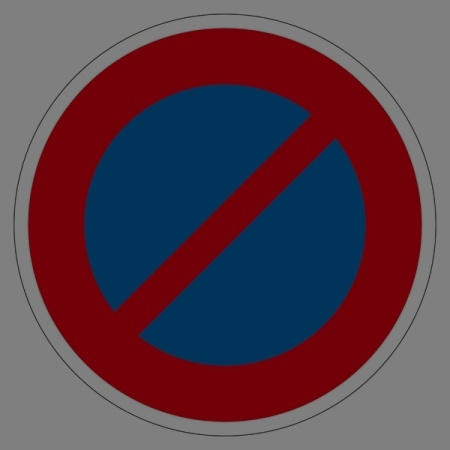Prohibition_sign: (4, 1, 442, 450)
